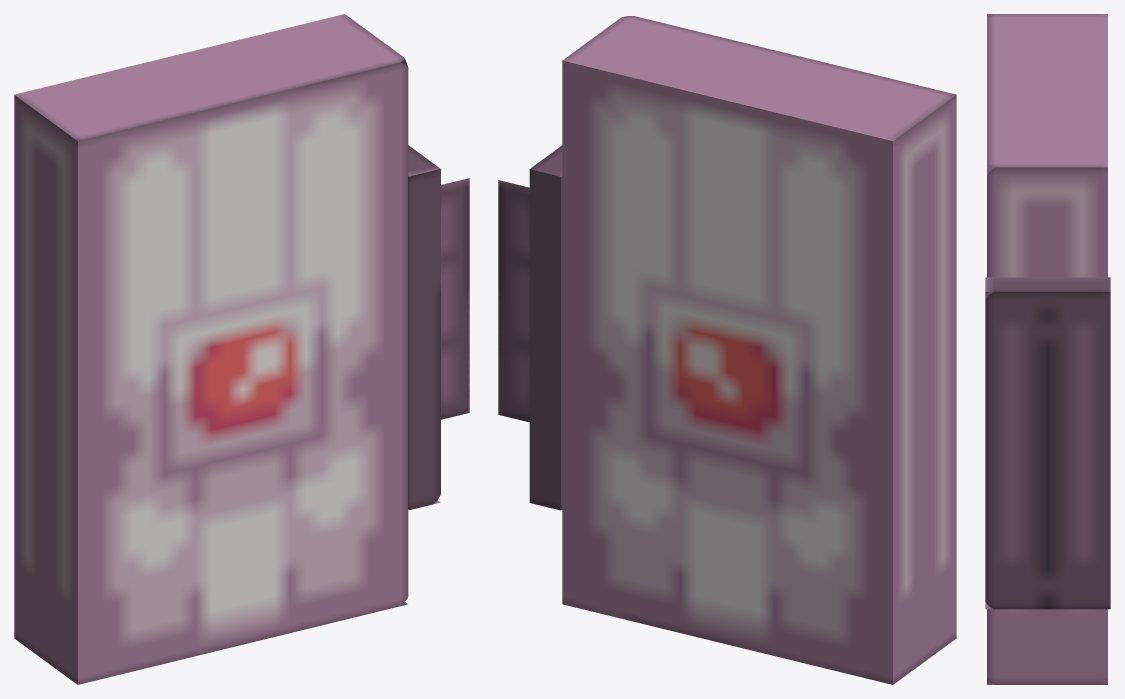
File: airlock_1.obj
3 views of the same model, side by side, from view 1: azimuth 30°, elevation 25°; view 2: azimuth 150°, elevation 25°; view 3: azimuth 270°, elevation 25° (orthographic). The views are drawn at different scales.
Visible parts, largest first — view 1: cube; view 2: cube; view 3: cube.
Part boxes in pixels (bbox=[...]): cube: bbox=[14, 14, 469, 684]; cube: bbox=[498, 16, 956, 684]; cube: bbox=[985, 14, 1110, 684].
Bounding box in the file's own units: 1.69 × 2.06 × 0.4531.
Materials: 1 (1 with a texture image).
